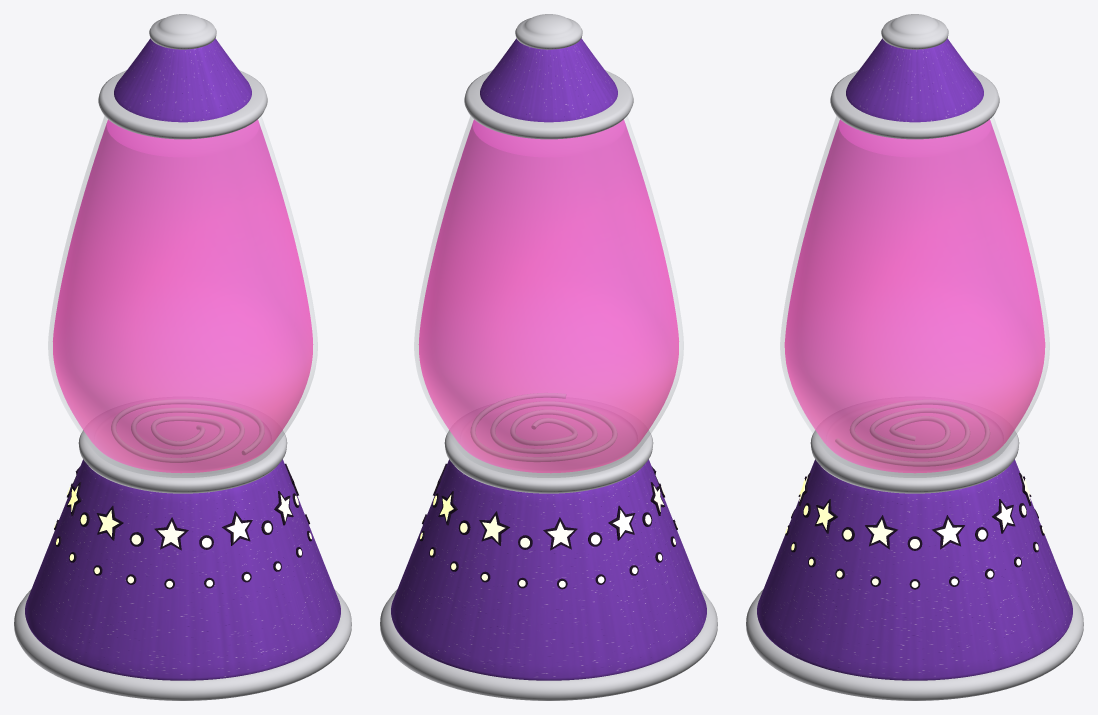
File: lavalamp.glb
3 renders of one model, left to right at view 1: azimuth 30°, elevation 25°; view 2: azimuth 150°, elevation 25°; view 3: azimuth 270°, elevation 25°, orthographic.
Visible parts, largest first — view 1: lavalamp; view 2: lavalamp; view 3: lavalamp.
Part boxes in pixels (x1,y1,x2,y2): lavalamp: (14,14,351,700); lavalamp: (380,14,717,700); lavalamp: (746,14,1083,700).
Size of the model in its own units: 0.57 by 1.14 by 0.57.
Materials: 8 (3 with a texture image).
